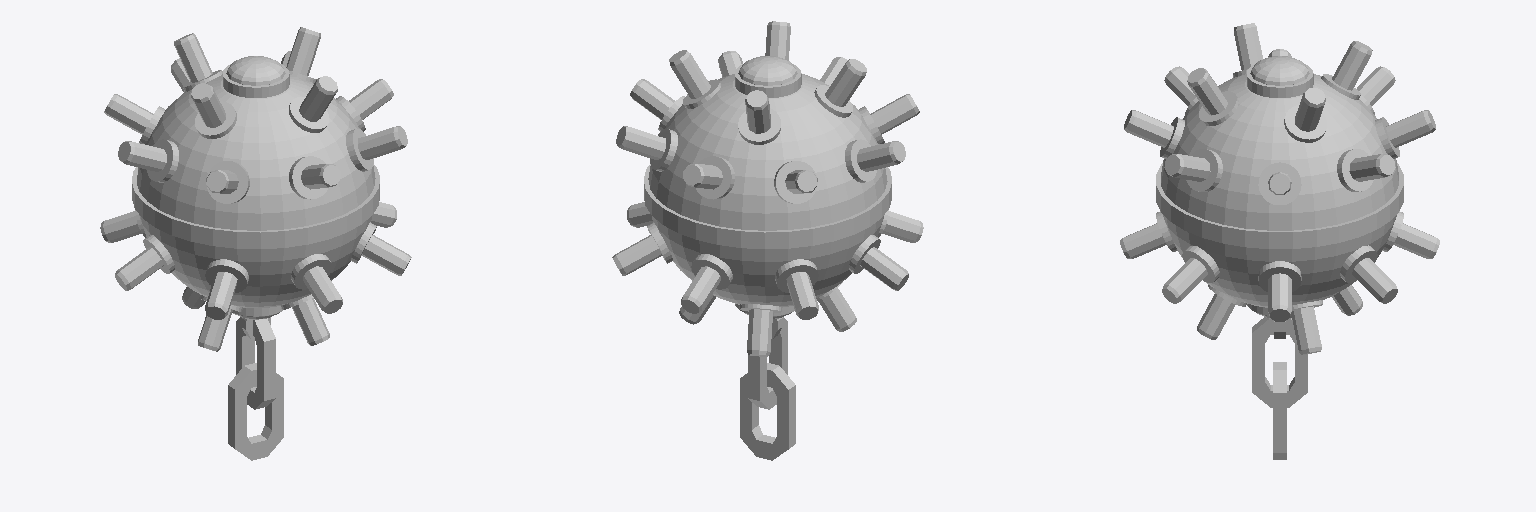
File: Мина.obj
3 renders of one model, left to right at view 1: azimuth 30°, elevation 25°; view 2: azimuth 150°, elevation 25°; view 3: azimuth 270°, elevation 25°, orthographic.
Parts seen in each view (by area): view 1: мина_Плоскость.004; view 2: мина_Плоскость.004; view 3: мина_Плоскость.004.
Part boxes in pixels (x1,y1,x2,y2): мина_Плоскость.004: (100, 27, 411, 460); мина_Плоскость.004: (612, 21, 923, 460); мина_Плоскость.004: (1120, 23, 1439, 459).
Size of the model in its own units: 0.5381 by 0.7412 by 0.5381.